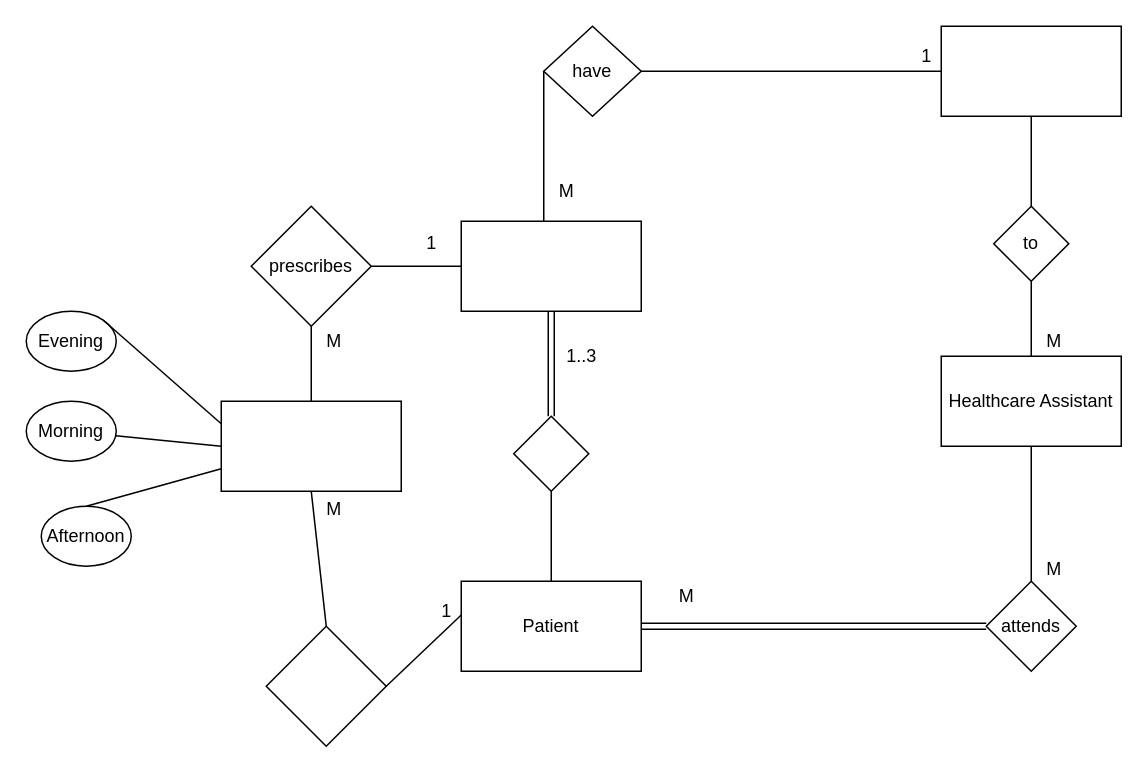
Some shapes in this 1148 by 773 pixel diagram are drawn without their labels. The centre of each missing label's shape, as x and y in pixels:
"Department" goes at (1030,70).
"Doctor" goes at (550,265).
"Drugs" goes at (310,445).
"takes" goes at (325,685).
"trea ts" goes at (550,453).
